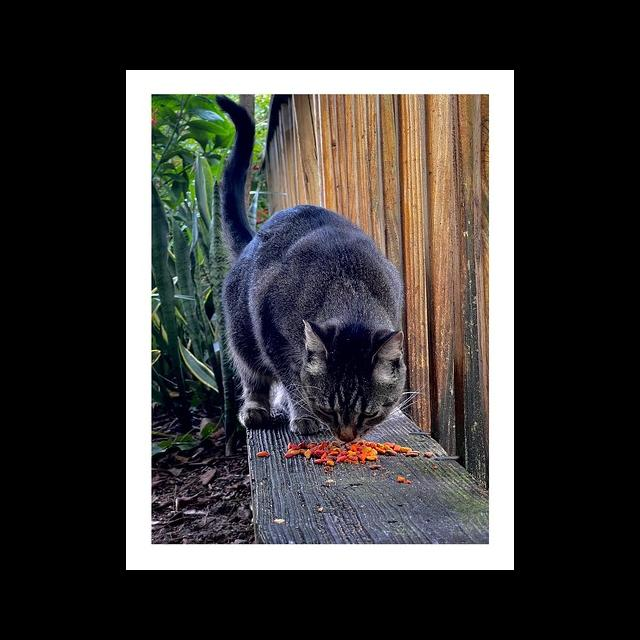animals: (215, 95, 404, 441)
